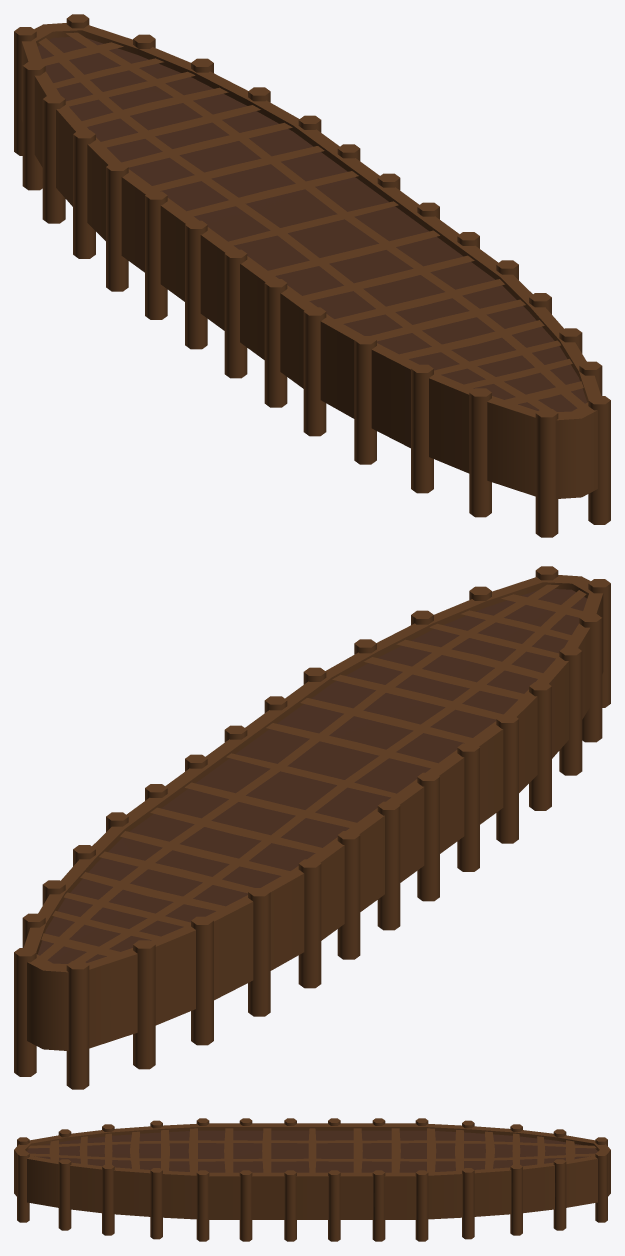
Rendered from STARLING.fbx.
The picture shows the model from 3 angles, top to bottom: view 1: azimuth 30°, elevation 25°; view 2: azimuth 150°, elevation 25°; view 3: azimuth 270°, elevation 25°; orthographic projection. The views are drawn at different scales.
Visible parts, largest first — view 1: BRIDGE_STARLING; view 2: BRIDGE_STARLING; view 3: BRIDGE_STARLING.
Boxes of the visible parts, <box> form: BRIDGE_STARLING: <box>14,14,610,537</box>; BRIDGE_STARLING: <box>14,566,610,1089</box>; BRIDGE_STARLING: <box>14,1118,610,1241</box>.
Size of the model in its own units: 828 by 454 by 3683.
